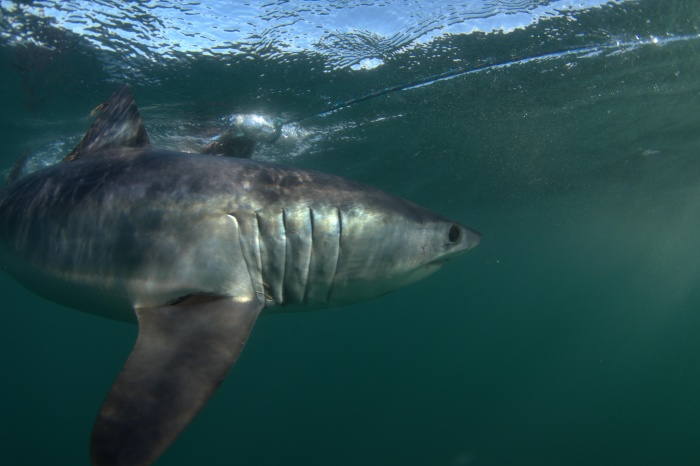Mako: (1, 80, 498, 464)
